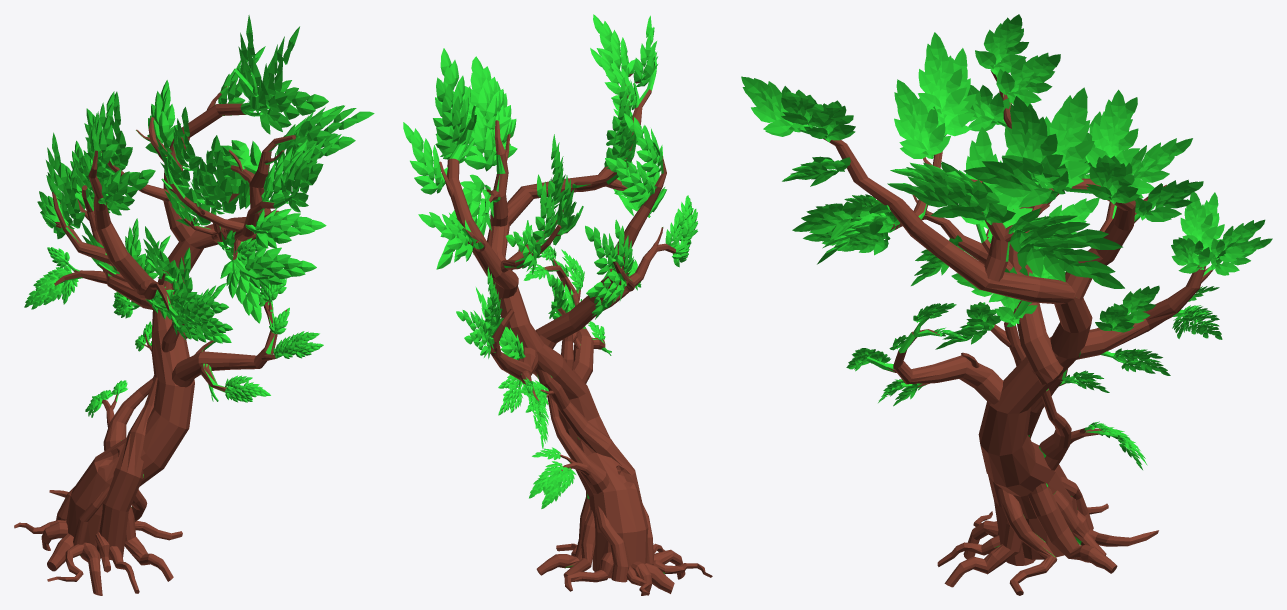
File: Big_Tree.fbx
3 views of the same model, side by side, from view 1: azimuth 30°, elevation 25°; view 2: azimuth 150°, elevation 25°; view 3: azimuth 270°, elevation 25° (orthographic). The views are drawn at different scales.
Parts seen in each view (by area): view 1: imagetostl_mesh0; view 2: imagetostl_mesh0; view 3: imagetostl_mesh0.
Part boxes in pixels (<box>): imagetostl_mesh0: <box>14,15,374,595</box>; imagetostl_mesh0: <box>403,14,712,595</box>; imagetostl_mesh0: <box>741,14,1272,595</box>.
Bounding box in the file's own units: 2816 × 4757 × 3883.
